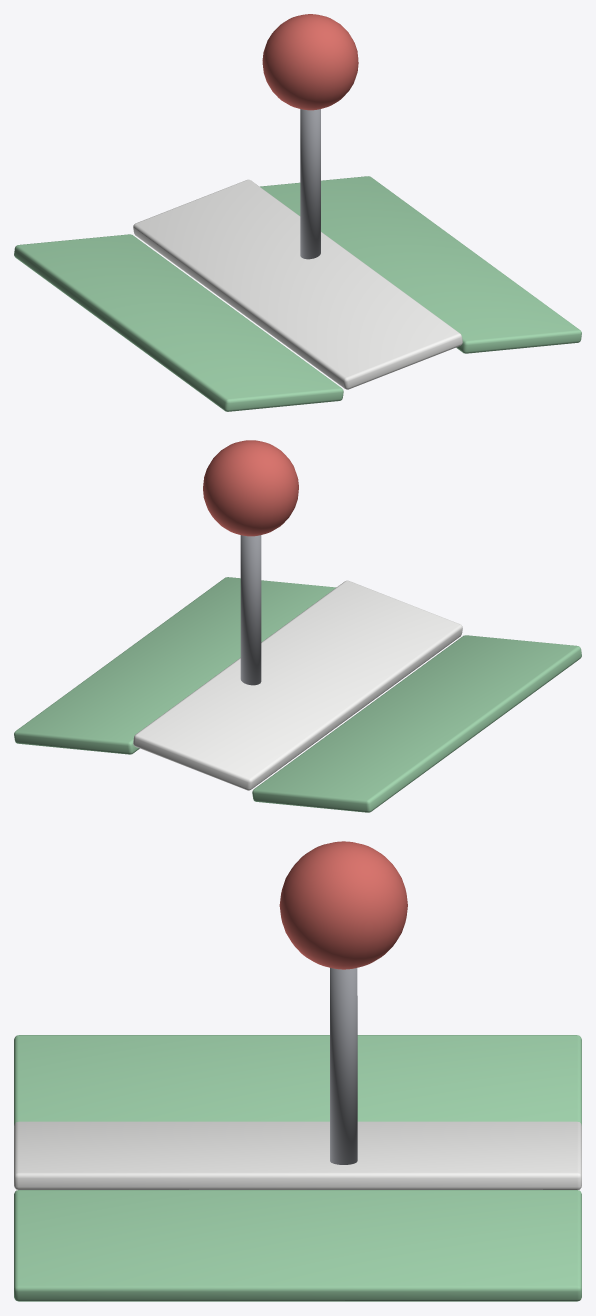
The model's file is products--osampo.glb.
The picture shows the model from 3 angles, top to bottom: view 1: azimuth 30°, elevation 25°; view 2: azimuth 150°, elevation 25°; view 3: azimuth 270°, elevation 25°; orthographic projection. The views are drawn at different scales.
Visible parts, largest first — view 1: products--osampo; view 2: products--osampo; view 3: products--osampo.
Part boxes in pixels (box(x1,y1,x2,y2)): products--osampo: box(14, 14, 581, 411); products--osampo: box(14, 440, 581, 812); products--osampo: box(14, 841, 581, 1301).
Size of the model in its own units: 0.5996 by 0.4331 by 0.6201.
